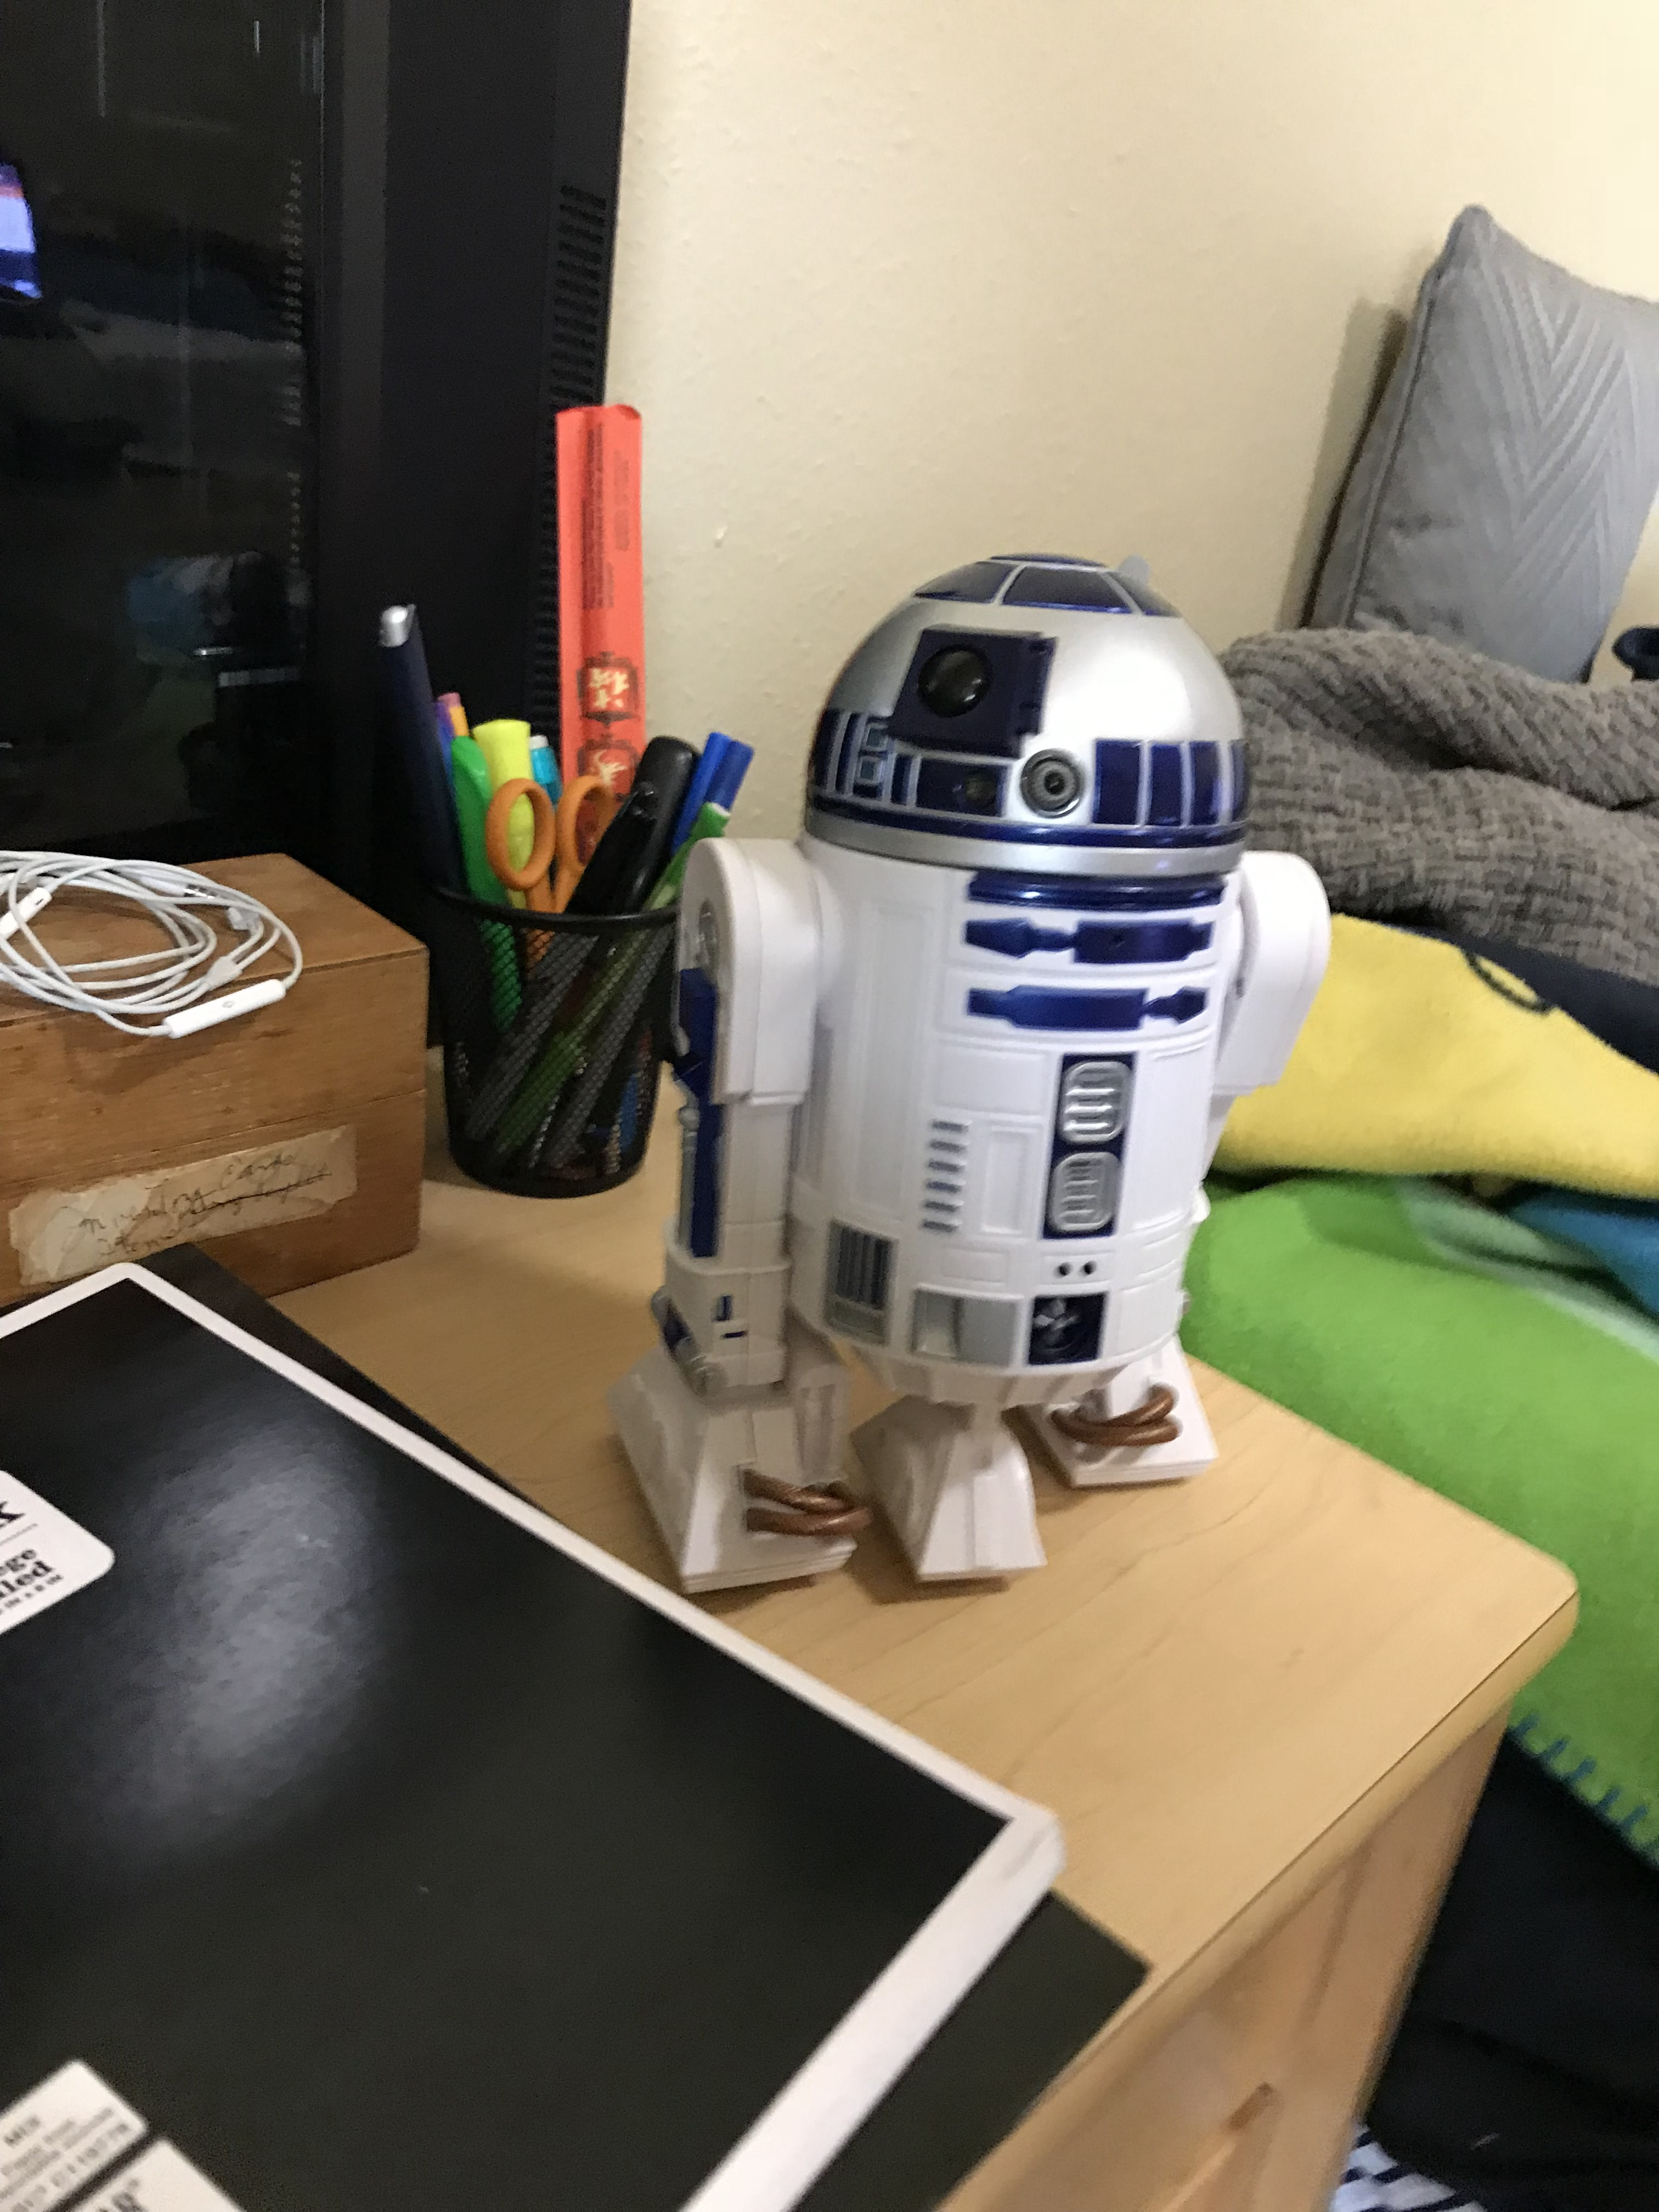r2d2: (619, 542, 1333, 1595)
